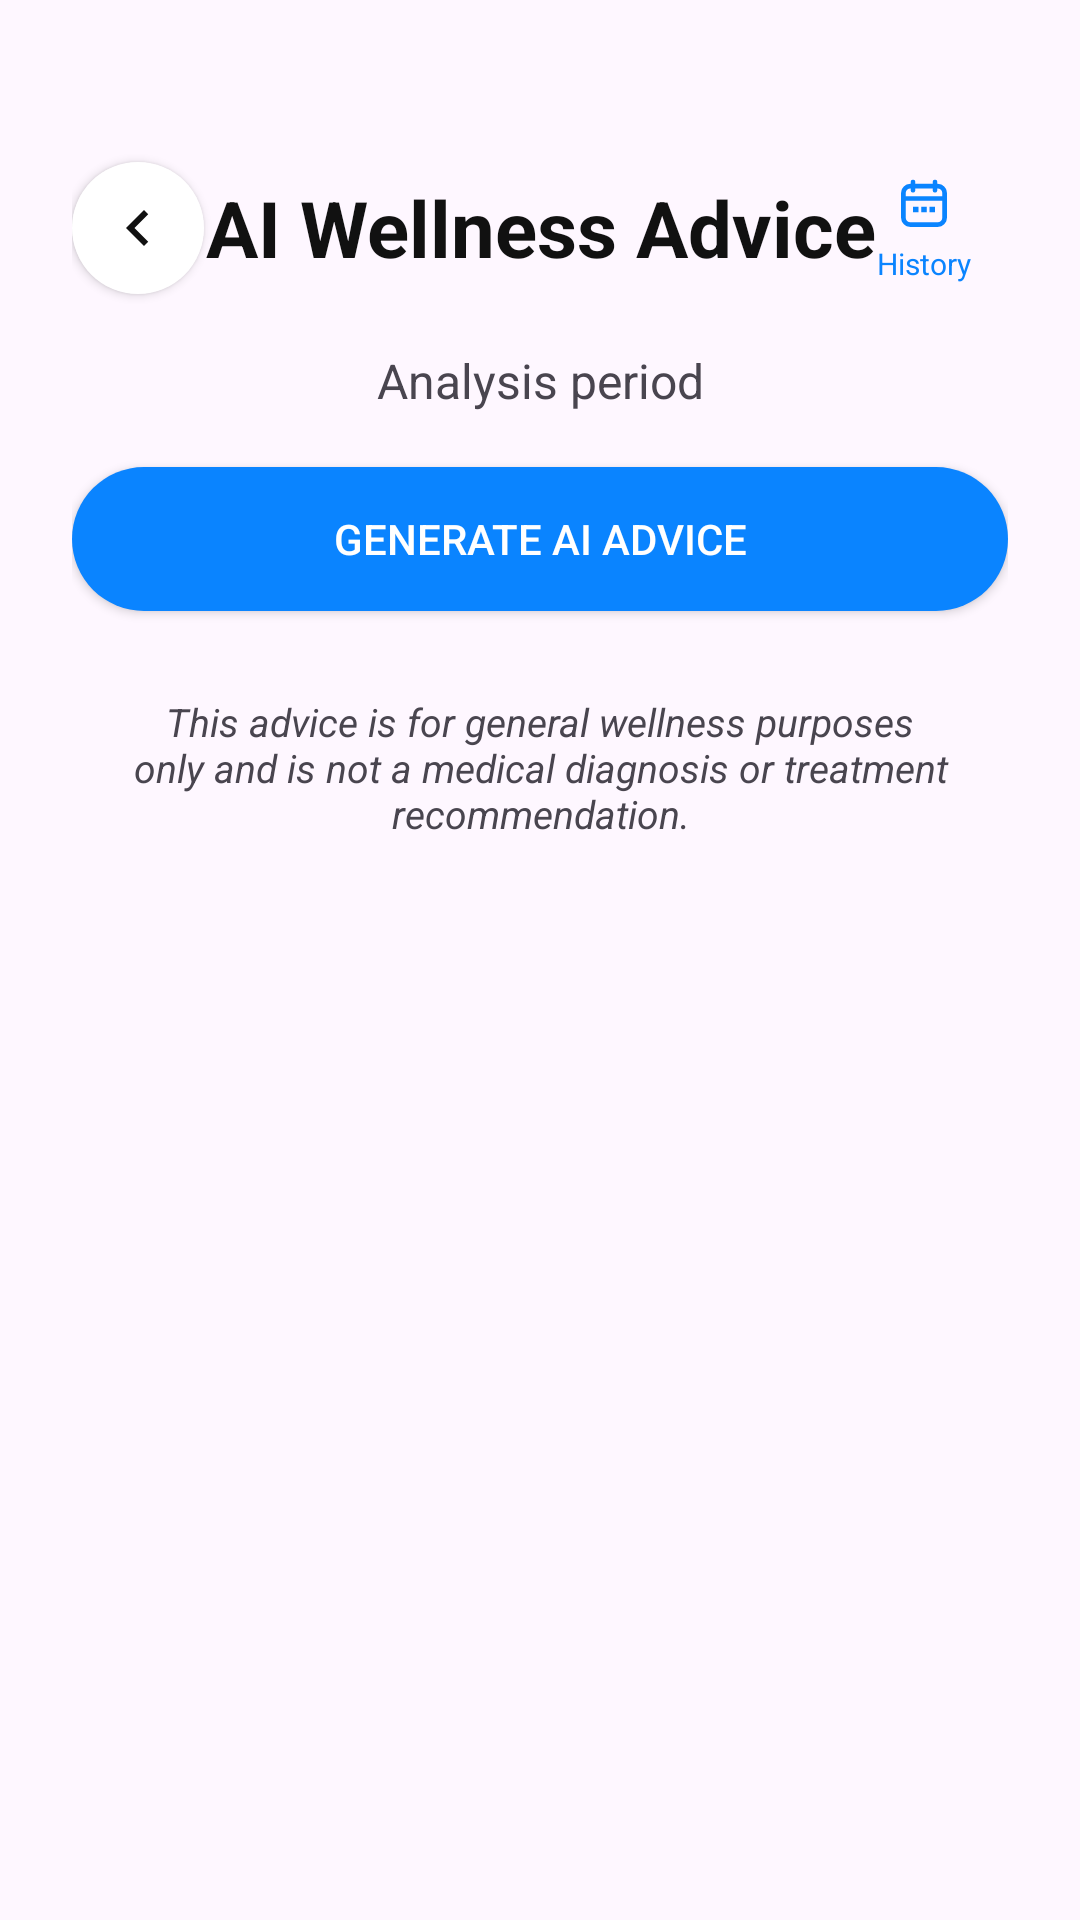

Icon click points for this 1080*1920 phone screenshot, format (x=x, y=y):
calendar: (x=924, y=203)
